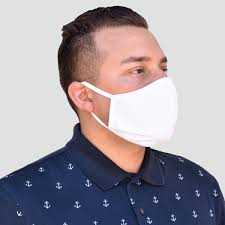with-mask: (53, 4, 182, 151)
